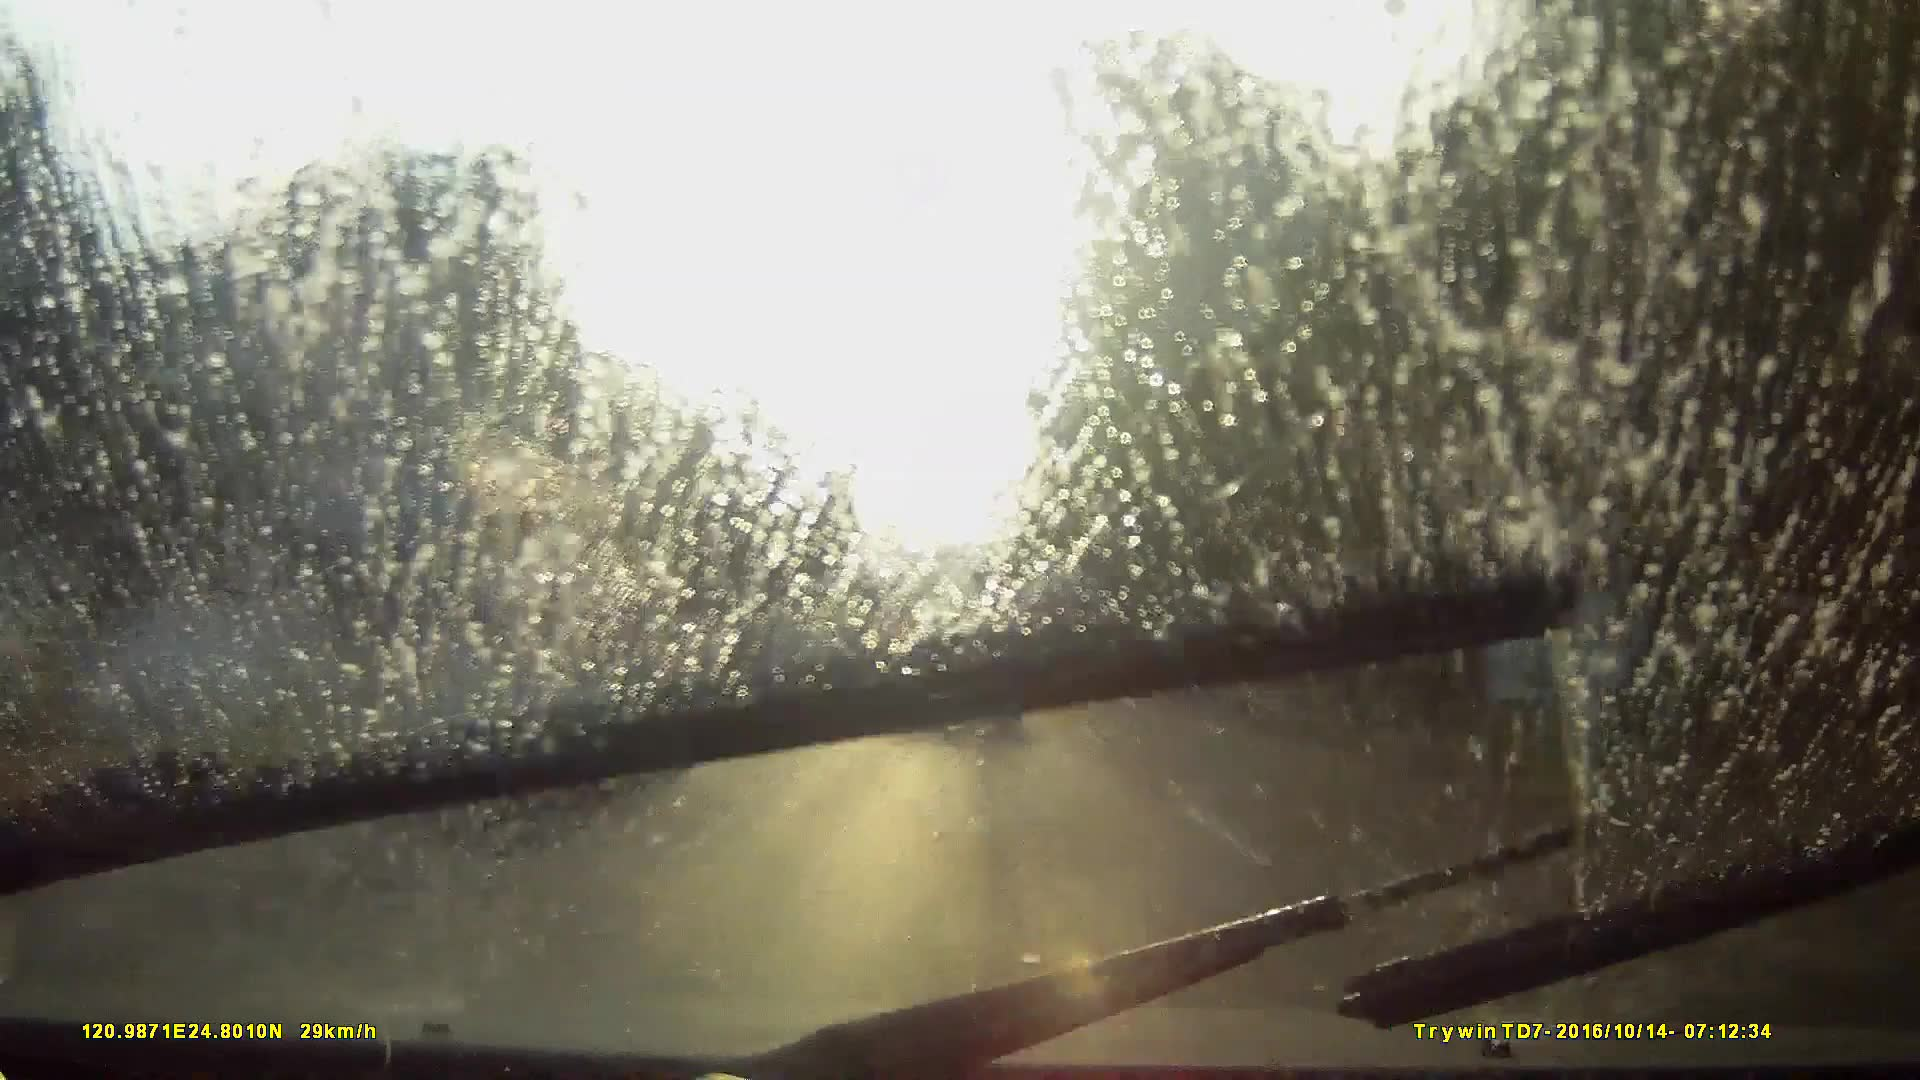vehicle: (207, 419, 647, 731), (251, 556, 684, 868), (401, 560, 707, 791), (889, 607, 1021, 738), (1004, 564, 1109, 690), (744, 624, 852, 711), (866, 638, 915, 687)
